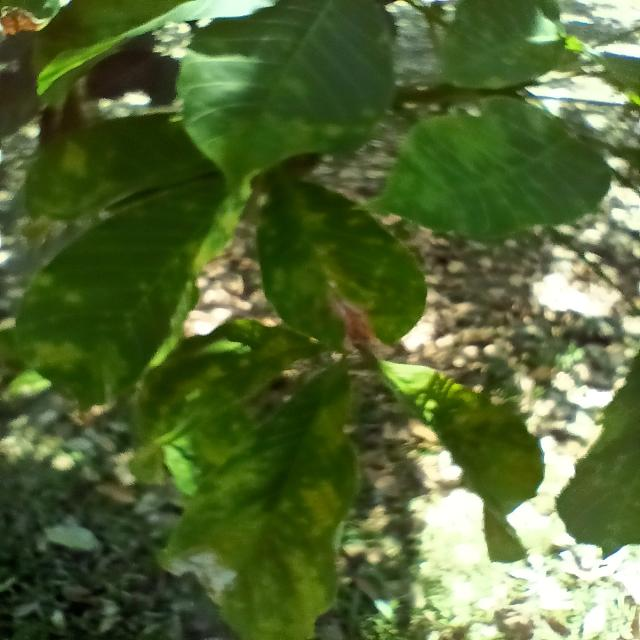Leaf-Blight: (334, 301, 380, 352)
